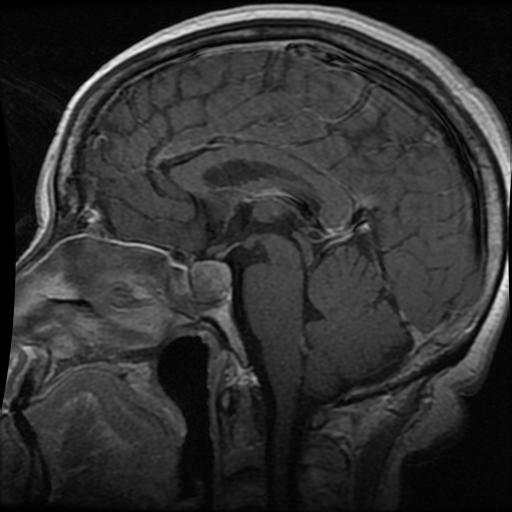Pituirity_tumour: (191, 260, 233, 302)
